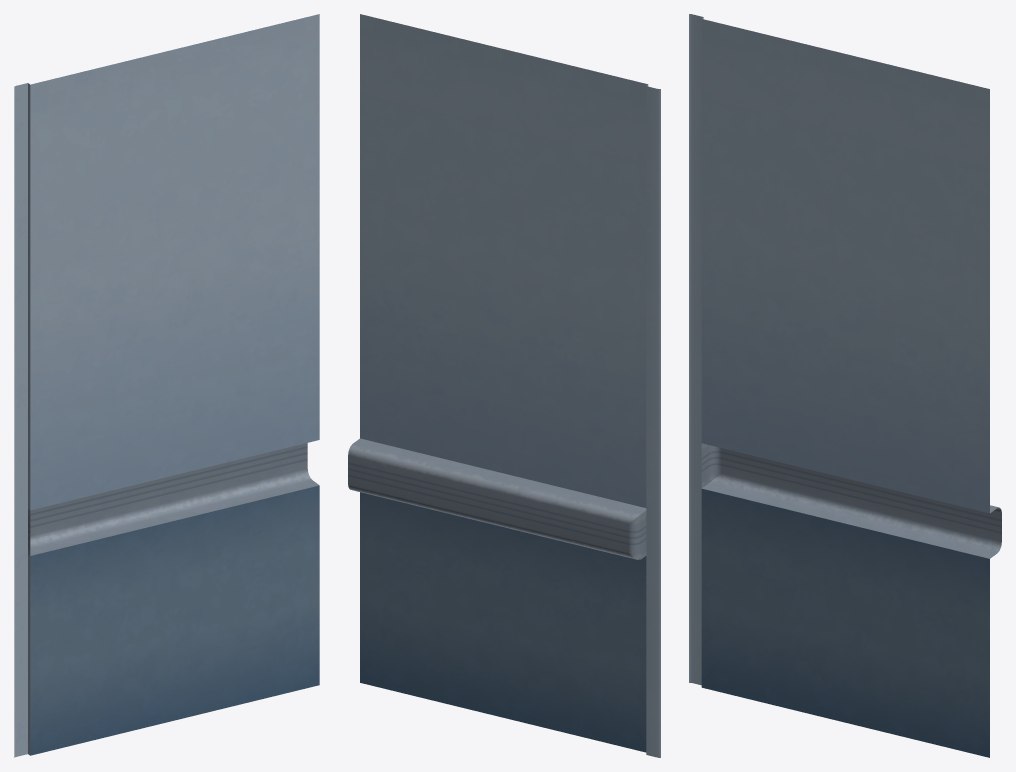
The model's file is Lvl2_Wall_Corner_Out_2.fbx.
3 renders of one model, left to right at view 1: azimuth 30°, elevation 25°; view 2: azimuth 150°, elevation 25°; view 3: azimuth 330°, elevation 25°, orthographic.
Visible parts, largest first — view 1: Lvl2_Wall_Corner_Out_2; view 2: Lvl2_Wall_Corner_Out_2; view 3: Lvl2_Wall_Corner_Out_2.
Part boxes in pixels (x1,y1,x2,y2): Lvl2_Wall_Corner_Out_2: (14, 14, 319, 757); Lvl2_Wall_Corner_Out_2: (348, 14, 660, 757); Lvl2_Wall_Corner_Out_2: (689, 14, 1001, 757).
Size of the model in its own units: 189 by 400 by 13.01.
1 material, 1 textured.
